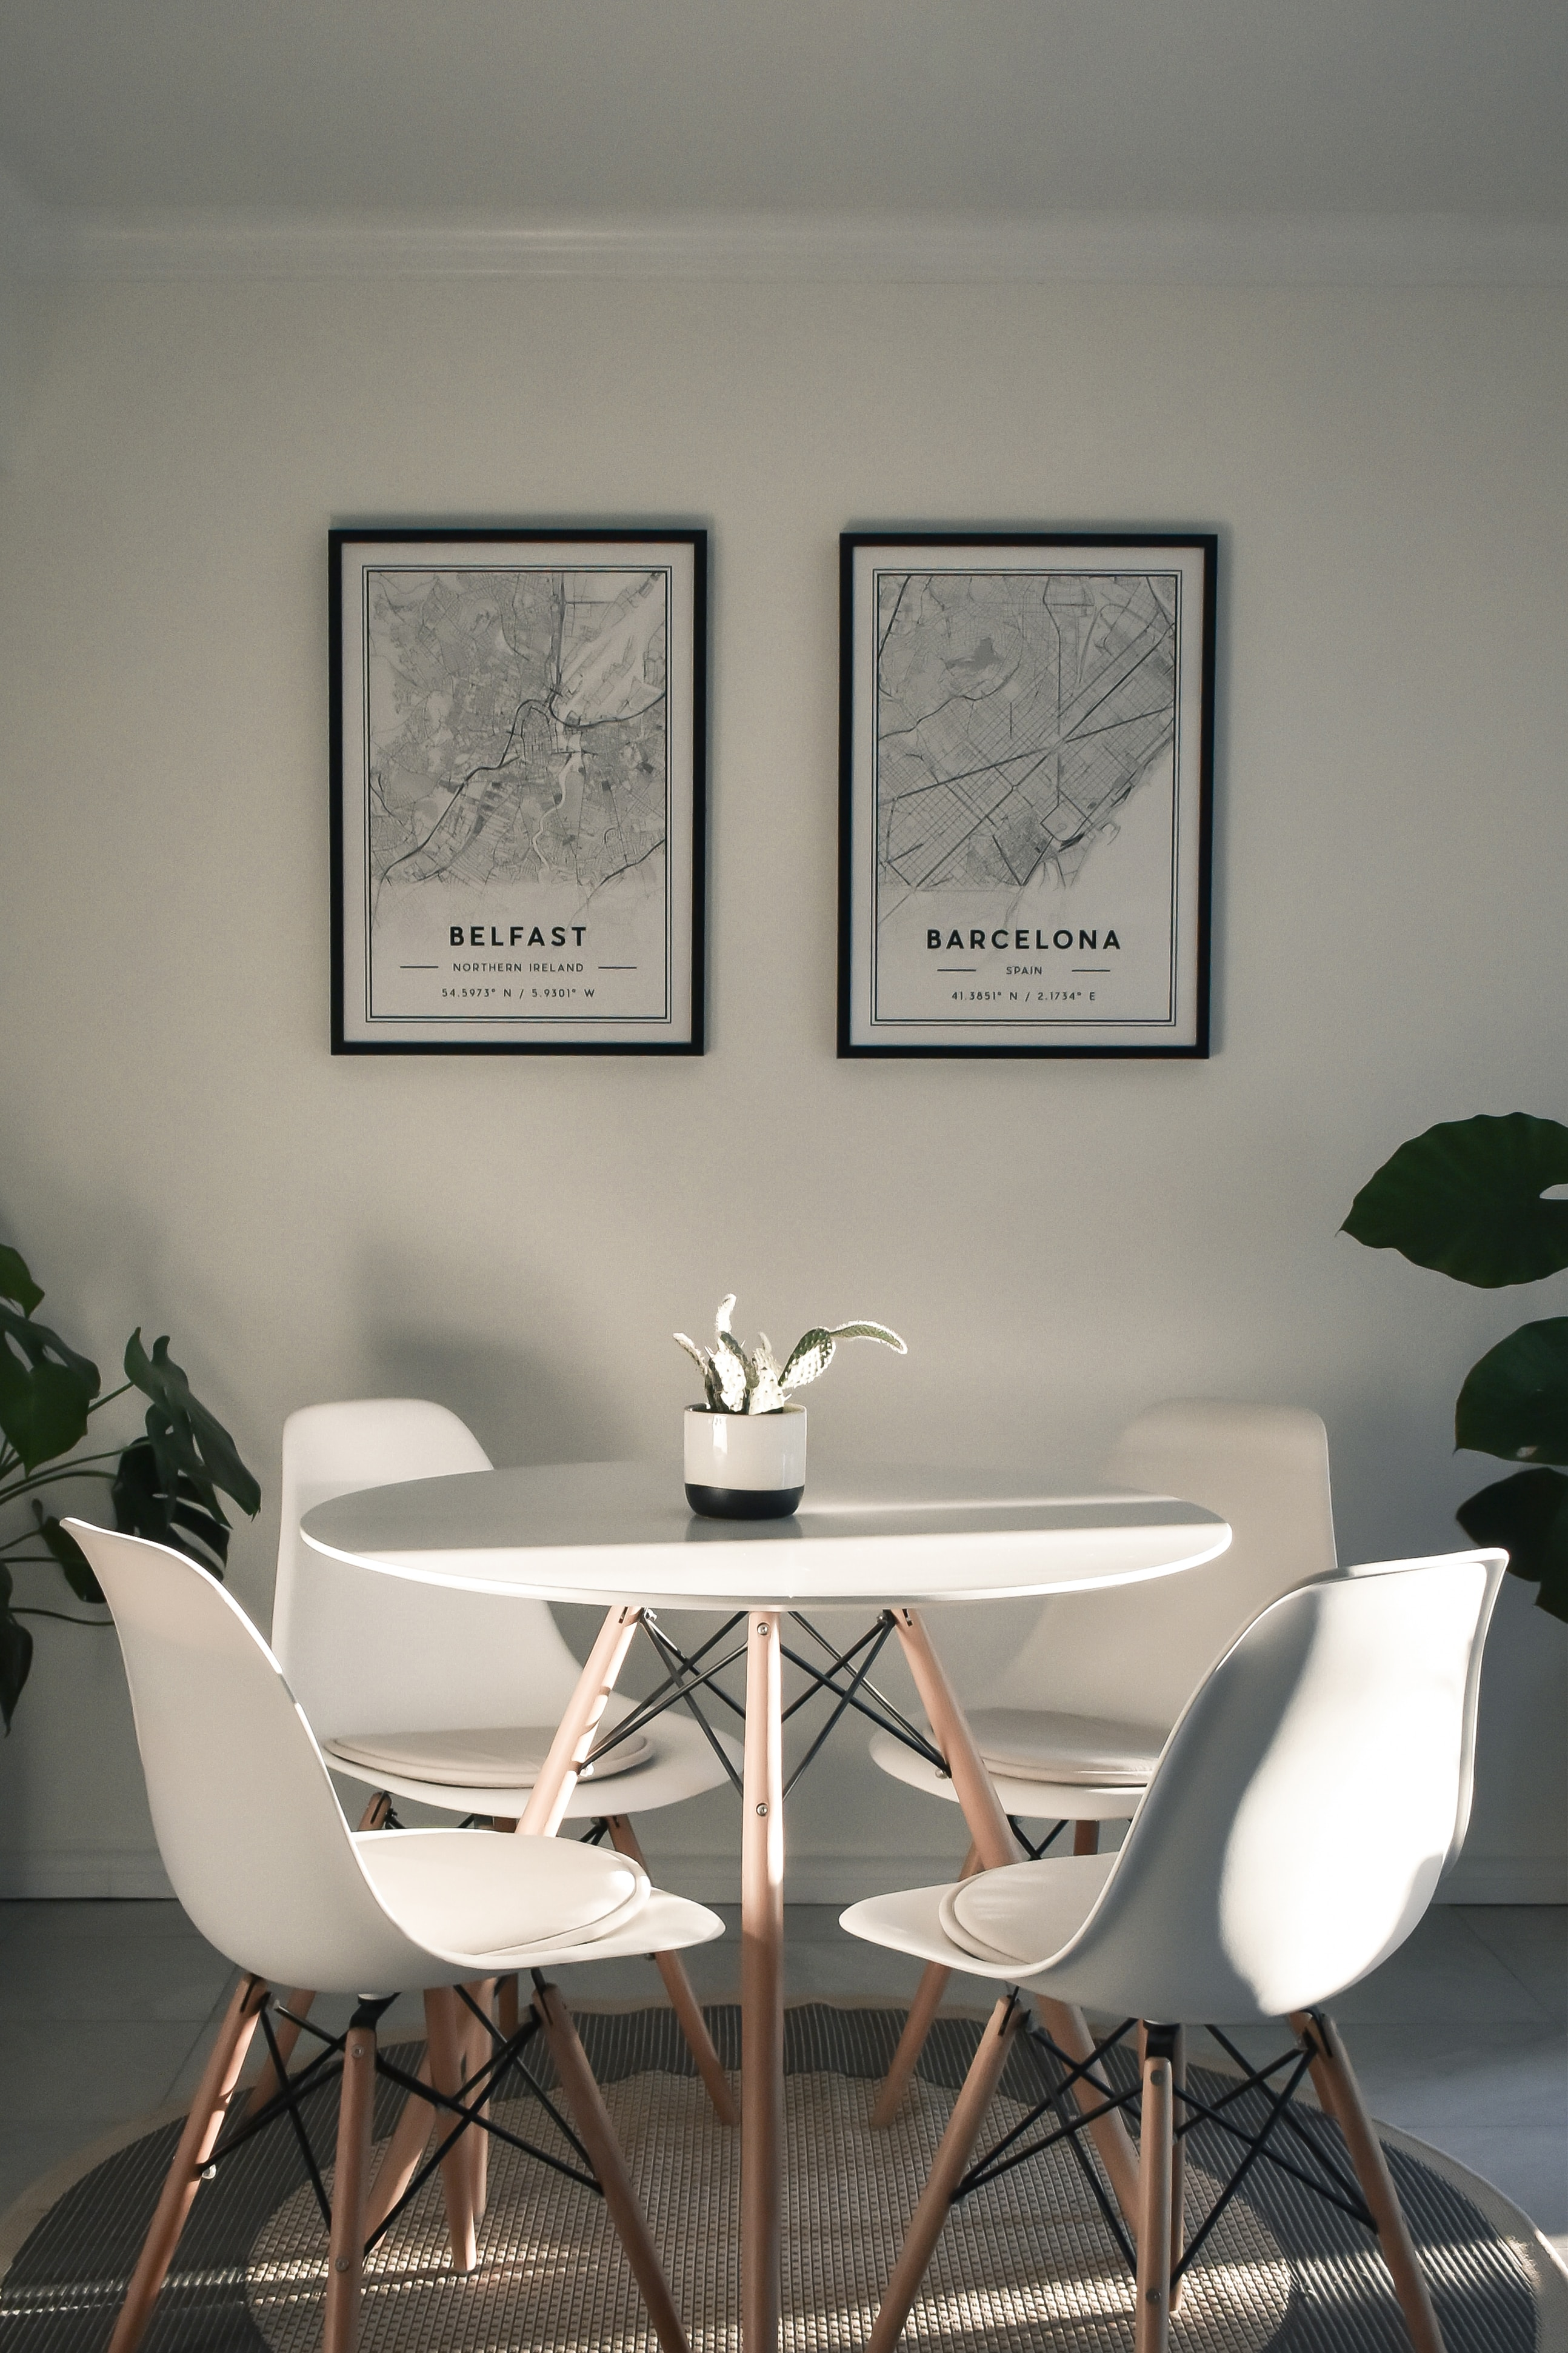Chair: (23, 1487, 735, 2353), (822, 1527, 1505, 2336)
Painting: (318, 514, 716, 1071), (829, 530, 1216, 1071)
